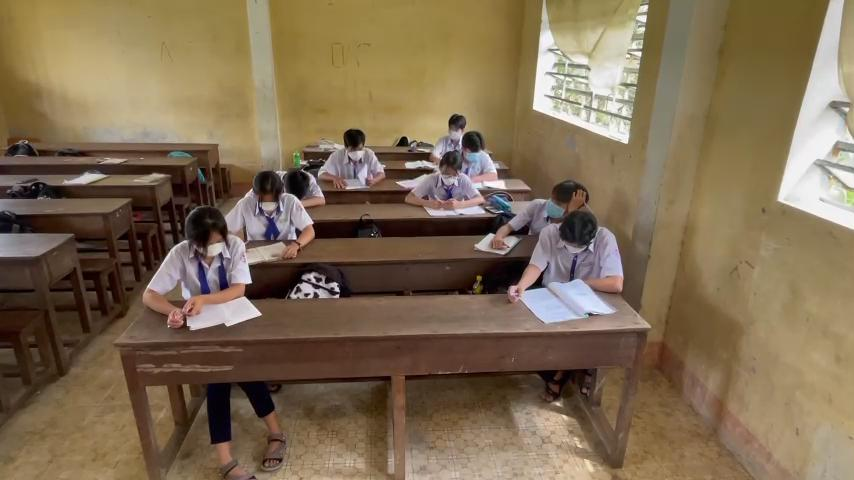Bend Over The Desk: (555, 205, 598, 261), (279, 152, 316, 207)
